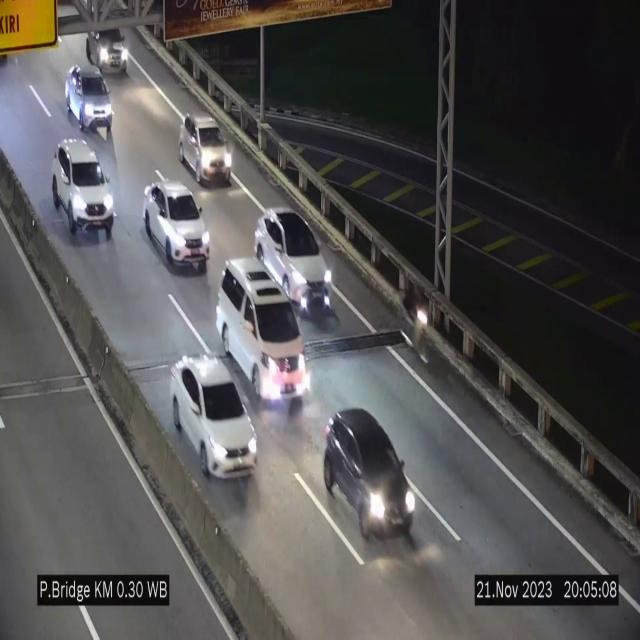Car: (324, 398, 421, 553), (216, 260, 308, 408), (171, 354, 257, 478), (254, 208, 332, 306), (53, 139, 114, 241), (143, 181, 210, 273), (179, 114, 233, 184), (65, 66, 112, 135), (85, 20, 131, 74)
Motorcycle: (401, 273, 433, 379)
